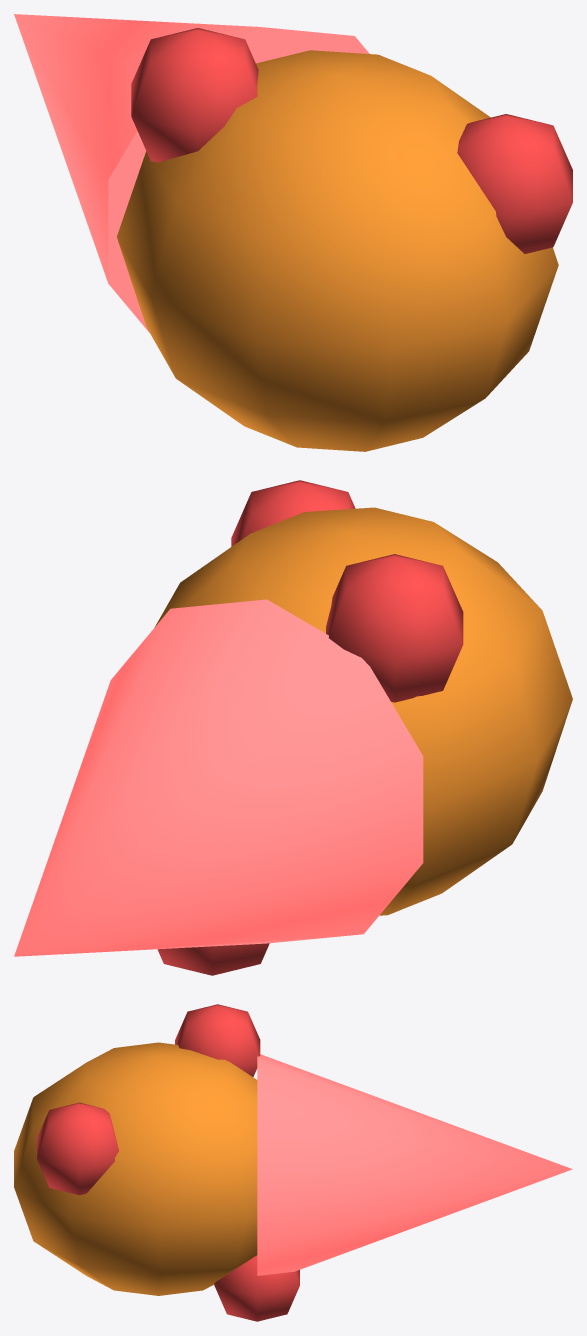
File: MeteorDive.fbx
3 renders of one model, top to bottom at view 1: azimuth 30°, elevation 25°; view 2: azimuth 150°, elevation 25°; view 3: azimuth 270°, elevation 25°, orthographic. The views are drawn at different scales.
Parts seen in each view (by area): view 1: MeteorDive; view 2: MeteorDive; view 3: MeteorDive.
Part boxes in pixels (left/top/right/bottom): MeteorDive: left=14, top=14, right=572, bottom=451; MeteorDive: left=14, top=480, right=572, bottom=975; MeteorDive: left=14, top=1004, right=572, bottom=1321.
Size of the model in its own units: 0.14 by 0.15 by 0.2832.
